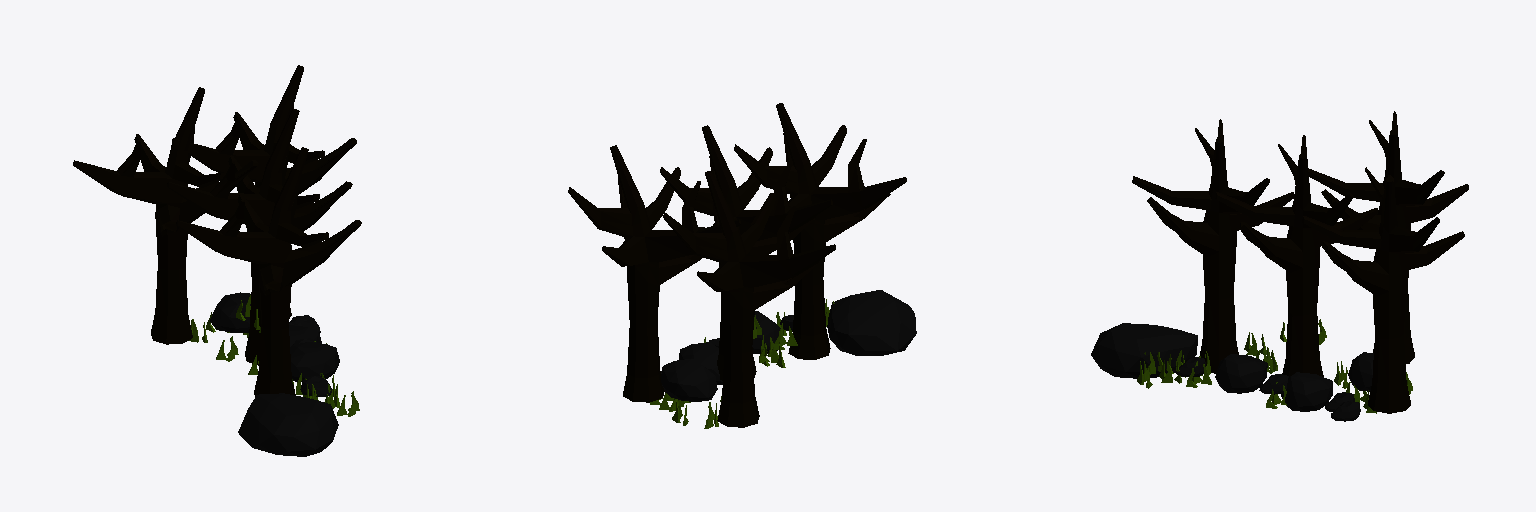
Rendered from arvoresMortas.obj.
3 views of the same model, side by side, from view 1: azimuth 30°, elevation 25°; view 2: azimuth 150°, elevation 25°; view 3: azimuth 270°, elevation 25° (orthographic).
Parts seen in each view (by area): view 1: Arbre_Automne_Cylinder.001, Arbre_Automne_Cylinder.003, Arbre_Automne_Cylinder.000, caillou1_Icosphere, Arbre_Automne_Cylinder.002, caillou1_Icosphere.001, caillou1_Icosphere.002; view 2: Arbre_Automne_Cylinder.003, Arbre_Automne_Cylinder.002, Arbre_Automne_Cylinder.001, Arbre_Automne_Cylinder.000, caillou1_Icosphere, caillou1_Icosphere.002, caillou1_Icosphere.003, caillou1_Icosphere.001; view 3: Arbre_Automne_Cylinder.002, Arbre_Automne_Cylinder.000, Arbre_Automne_Cylinder.001, Arbre_Automne_Cylinder.003, caillou1_Icosphere, caillou1_Icosphere.001, caillou1_Icosphere.003, caillou1_Icosphere.002.
Part boxes in pixels (x1,y1,x2,y2): Arbre_Automne_Cylinder.001: (176,147,361,396); Arbre_Automne_Cylinder.003: (73,87,258,344); Arbre_Automne_Cylinder.000: (167,109,352,365); caillou1_Icosphere: (238,393,338,456); Arbre_Automne_Cylinder.002: (172,65,356,316); caillou1_Icosphere.001: (290,342,339,381); caillou1_Icosphere.002: (210,292,250,332); Arbre_Automne_Cylinder.003: (663,171,835,427); Arbre_Automne_Cylinder.002: (568,145,740,402); Arbre_Automne_Cylinder.001: (734,103,906,359); Arbre_Automne_Cylinder.000: (660,125,832,380); caillou1_Icosphere: (827,290,916,355); caillou1_Icosphere.002: (661,359,717,401); caillou1_Icosphere.003: (679,342,722,384); caillou1_Icosphere.001: (752,311,780,353); Arbre_Automne_Cylinder.002: (1302,167,1464,413); Arbre_Automne_Cylinder.000: (1215,135,1377,376); Arbre_Automne_Cylinder.001: (1132,119,1293,373); Arbre_Automne_Cylinder.003: (1308,111,1468,363); caillou1_Icosphere: (1091,323,1197,378); caillou1_Icosphere.001: (1215,354,1267,393); caillou1_Icosphere.003: (1281,372,1332,411); caillou1_Icosphere.002: (1348,352,1373,391).
Size of the model in its own units: 3.85 by 3.7 by 5.03.